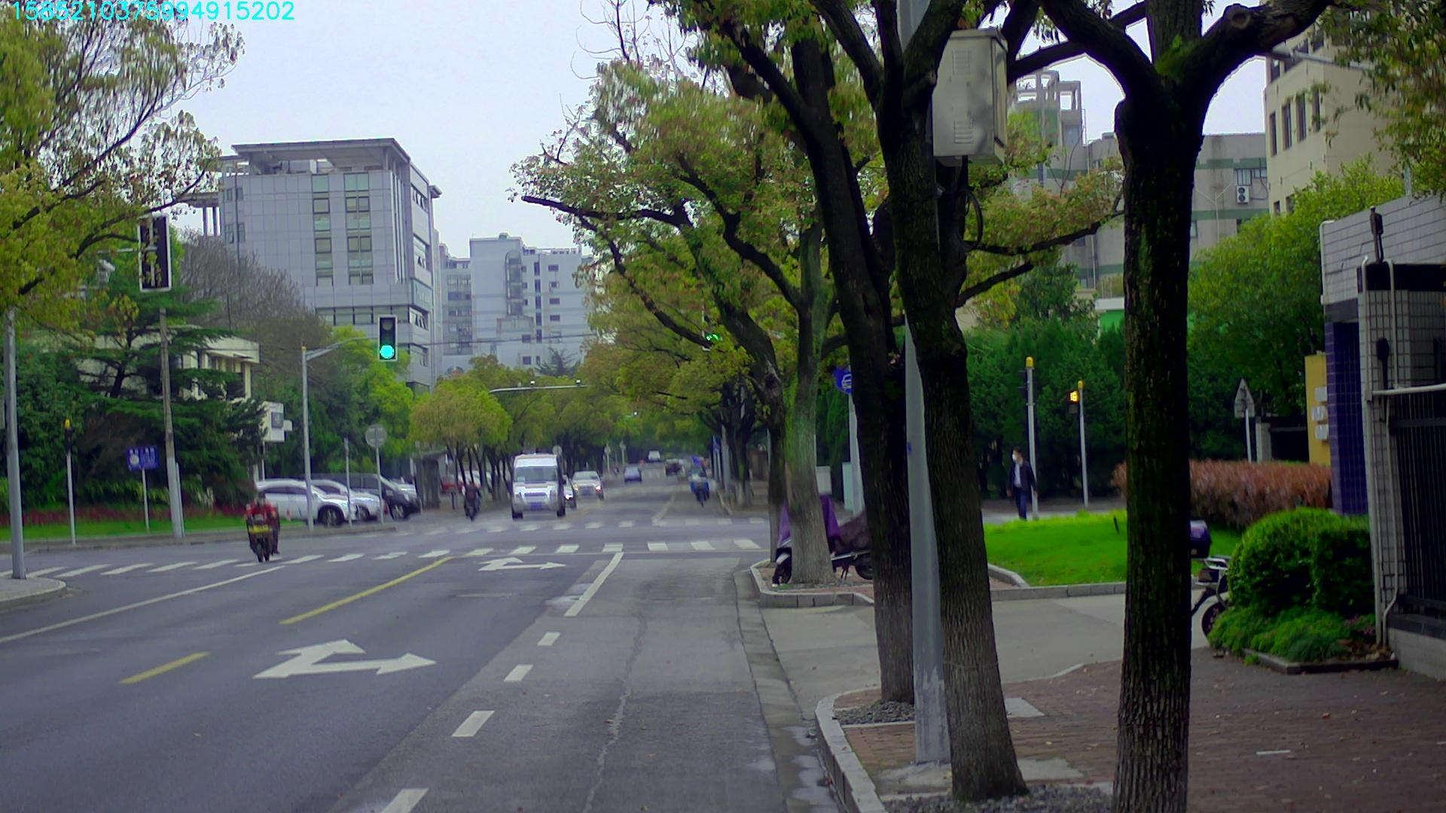green: (377, 316, 396, 360), (702, 303, 718, 349)
